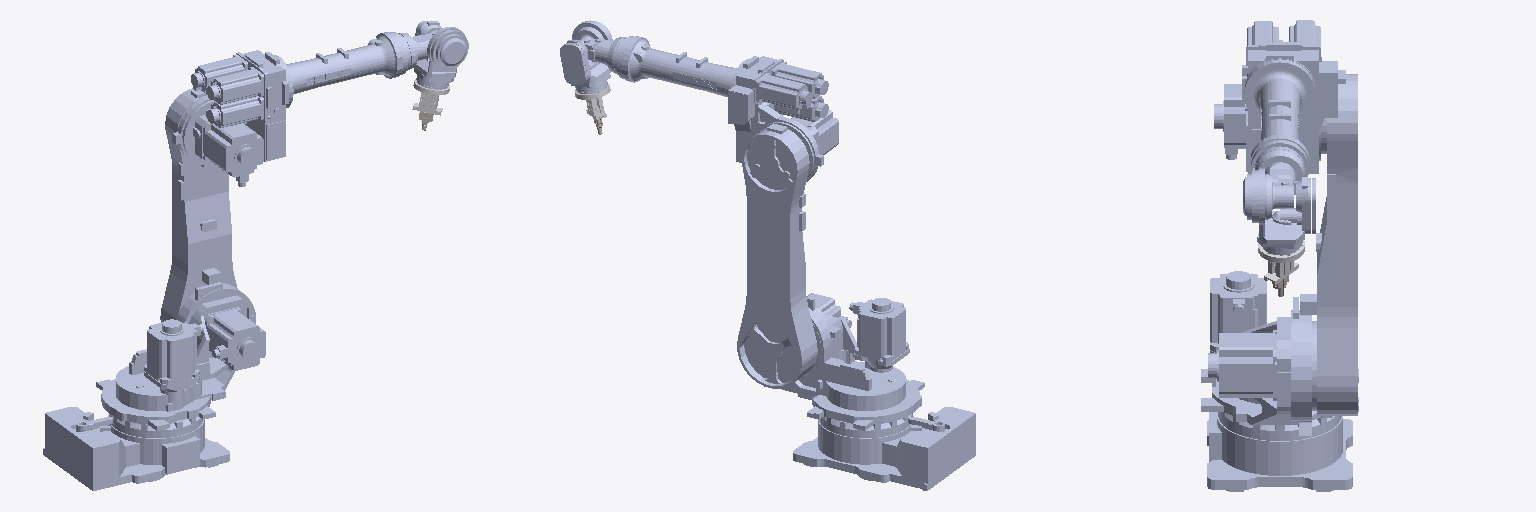
The robot description file, URDF, robot "hg_arm_hand_description":
<?xml version="1.0" encoding="utf-8"?>
<!-- This URDF was automatically created by SolidWorks to URDF Exporter! Originally created by [author] ([email redacted]) 
     Commit Version: 1.6.0-1-g15f4949  Build Version: 1.6.7594.29634
     For more information, please see http://wiki.ros.org/sw_urdf_exporter -->
<robot
  name="hg_arm_hand_description">
  <link
    name="base_link">
    <inertial>
      <origin
        xyz="-0.0980500358272937 -0.00232771681565317 0.111852076506816"
        rpy="0 0 0" />
      <mass
        value="46.5873146529749" />
      <inertia
        ixx="0.661474745111325"
        ixy="0.0153527675183583"
        ixz="0.089604953466729"
        iyy="1.33815915829418"
        iyz="0.000457536691791632"
        izz="1.80453325697265" />
    </inertial>
    <visual>
      <origin
        xyz="0 0 0"
        rpy="0 0 0" />
      <geometry>
        <mesh
          filename="package://hg_arm_hand_description/meshes/base_link.STL" />
      </geometry>
      <material
        name="">
        <color
          rgba="0.792156862745098 0.819607843137255 0.933333333333333 1" />
      </material>
    </visual>
    <collision>
      <origin
        xyz="0 0 0"
        rpy="0 0 0" />
      <geometry>
        <mesh
          filename="package://hg_arm_hand_description/meshes/base_link.STL" />
      </geometry>
    </collision>
  </link>
  <link
    name="Link1">
    <inertial>
      <origin
        xyz="0.124489041830363 -0.039358174366685 0.118219762696502"
        rpy="0 0 0" />
      <mass
        value="33.6330721032146" />
      <inertia
        ixx="0.468945917191168"
        ixy="-0.0589086007459388"
        ixz="-0.222059127182104"
        iyy="0.888555909380166"
        iyz="-0.0161423969222272"
        izz="0.843325415823868" />
    </inertial>
    <visual>
      <origin
        xyz="0 0 0"
        rpy="0 0 0" />
      <geometry>
        <mesh
          filename="package://hg_arm_hand_description/meshes/Link1.STL" />
      </geometry>
      <material
        name="">
        <color
          rgba="0.792156862745098 0.819607843137255 0.933333333333333 1" />
      </material>
    </visual>
    <collision>
      <origin
        xyz="0 0 0"
        rpy="0 0 0" />
      <geometry>
        <mesh
          filename="package://hg_arm_hand_description/meshes/Link1.STL" />
      </geometry>
    </collision>
  </link>
  <joint
    name="joint1"
    type="revolute">
    <origin
      xyz="0 0 0.28"
      rpy="0 0 0" />
    <parent
      link="base_link" />
    <child
      link="Link1" />
    <axis
      xyz="0 0 -1" />
    <limit
      lower="-3.14"
      upper="3.14"
      effort="1"
      velocity="1" />
  </joint>
  <link
    name="Link2">
    <inertial>
      <origin
        xyz="-0.00191502415367473 -0.0672730286474409 0.372447137291563"
        rpy="0 0 0" />
      <mass
        value="34.2613834304154" />
      <inertia
        ixx="1.73347595247948"
        ixy="-0.000101095446454487"
        ixz="0.00095886072769276"
        iyy="1.86610585301145"
        iyz="0.0321183884522106"
        izz="0.208398466721327" />
    </inertial>
    <visual>
      <origin
        xyz="0 0 0"
        rpy="0 0 0" />
      <geometry>
        <mesh
          filename="package://hg_arm_hand_description/meshes/Link2.STL" />
      </geometry>
      <material
        name="">
        <color
          rgba="0.792156862745098 0.819607843137255 0.933333333333333 1" />
      </material>
    </visual>
    <collision>
      <origin
        xyz="0 0 0"
        rpy="0 0 0" />
      <geometry>
        <mesh
          filename="package://hg_arm_hand_description/meshes/Link2.STL" />
      </geometry>
    </collision>
  </link>
  <joint
    name="joint2"
    type="revolute">
    <origin
      xyz="0.32 0.1 0.2"
      rpy="0 0 3.1416" />
    <parent
      link="Link1" />
    <child
      link="Link2" />
    <axis
      xyz="0 -1 0" />
    <limit
      lower="-3.14"
      upper="3.14"
      effort="1"
      velocity="1" />
  </joint>
  <link
    name="Link3">
    <inertial>
      <origin
        xyz="-0.183102672704757 0.0179818743476689 0.119362800384374"
        rpy="0 0 0" />
      <mass
        value="32.9263890108208" />
      <inertia
        ixx="0.308931114883643"
        ixy="0.0224354465402208"
        ixz="0.0556277116487763"
        iyy="0.601143194786335"
        iyz="-0.0026357431191842"
        izz="0.4899154837244" />
    </inertial>
    <visual>
      <origin
        xyz="0 0 0"
        rpy="0 0 0" />
      <geometry>
        <mesh
          filename="package://hg_arm_hand_description/meshes/Link3.STL" />
      </geometry>
      <material
        name="">
        <color
          rgba="0.792156862745098 0.819607843137255 0.933333333333333 1" />
      </material>
    </visual>
    <collision>
      <origin
        xyz="0 0 0"
        rpy="0 0 0" />
      <geometry>
        <mesh
          filename="package://hg_arm_hand_description/meshes/Link3.STL" />
      </geometry>
    </collision>
  </link>
  <joint
    name="joint3"
    type="revolute">
    <origin
      xyz="0 0.084 0.87"
      rpy="0 0 0" />
    <parent
      link="Link2" />
    <child
      link="Link3" />
    <axis
      xyz="0 1 0" />
    <limit
      lower="-3.14"
      upper="3.14"
      effort="1"
      velocity="1" />
  </joint>
  <link
    name="Link4">
    <inertial>
      <origin
        xyz="0.0251416371906674 -2.64594692822584E-08 -0.00119929727767354"
        rpy="0 0 0" />
      <mass
        value="3.31772253710851" />
      <inertia
        ixx="0.00871539895331899"
        ixy="4.72234769697784E-09"
        ixz="0.000405286761999623"
        iyy="0.0128061237486537"
        iyz="-3.39763923047263E-09"
        izz="0.0127319094954166" />
    </inertial>
    <visual>
      <origin
        xyz="0 0 0"
        rpy="0 0 0" />
      <geometry>
        <mesh
          filename="package://hg_arm_hand_description/meshes/Link4.STL" />
      </geometry>
      <material
        name="">
        <color
          rgba="0.792156862745098 0.819607843137255 0.933333333333333 1" />
      </material>
    </visual>
    <collision>
      <origin
        xyz="0 0 0"
        rpy="0 0 0" />
      <geometry>
        <mesh
          filename="package://hg_arm_hand_description/meshes/Link4.STL" />
      </geometry>
    </collision>
  </link>
  <joint
    name="joint4"
    type="revolute">
    <origin
      xyz="-0.86 0.016 0.2"
      rpy="-1.5708 0 3.1416" />
    <parent
      link="Link3" />
    <child
      link="Link4" />
    <axis
      xyz="1 0 0" />
    <limit
      lower="-3.14"
      upper="3.14"
      effort="1"
      velocity="1" />
  </joint>
  <link
    name="Link5">
    <inertial>
      <origin
        xyz="0.0761284567626129 -0.0236687427949569 0.0192511620493185"
        rpy="0 0 0" />
      <mass
        value="3.21802266833736" />
      <inertia
        ixx="0.0115685195832536"
        ixy="-0.000566862871540123"
        ixz="0.000478618021045719"
        iyy="0.010525417907517"
        iyz="0.00142169346768481"
        izz="0.0110683735994668" />
    </inertial>
    <visual>
      <origin
        xyz="0 0 0"
        rpy="0 0 0" />
      <geometry>
        <mesh
          filename="package://hg_arm_hand_description/meshes/Link5.STL" />
      </geometry>
      <material
        name="">
        <color
          rgba="0.792156862745098 0.819607843137255 0.933333333333333 1" />
      </material>
    </visual>
    <collision>
      <origin
        xyz="0 0 0"
        rpy="0 0 0" />
      <geometry>
        <mesh
          filename="package://hg_arm_hand_description/meshes/Link5.STL" />
      </geometry>
    </collision>
  </link>
  <joint
    name="joint5"
    type="revolute">
    <origin
      xyz="0.17 0 -0.087"
      rpy="-2.26689 -1.5708 0" />
    <parent
      link="Link4" />
    <child
      link="Link5" />
    <axis
      xyz="1 0 0" />
    <limit
      lower="-3.14"
      upper="3.14"
      effort="1"
      velocity="1" />
  </joint>
  <link
    name="Link6">
    <inertial>
      <origin
        xyz="-5.55111512312578E-15 -3.10862446895044E-15 -0.057074120012946"
        rpy="0 0 0" />
      <mass
        value="1.03809496696182" />
      <inertia
        ixx="0.00165602822384768"
        ixy="1.62630325872826E-19"
        ixz="2.71050543121376E-20"
        iyy="0.00165602822384769"
        iyz="4.33680868994202E-19"
        izz="0.00254659409207581" />
    </inertial>
    <visual>
      <origin
        xyz="0 0 0"
        rpy="0 0 0" />
      <geometry>
        <mesh
          filename="package://hg_arm_hand_description/meshes/Link6.STL" />
      </geometry>
      <material
        name="">
        <color
          rgba="0.792156862745098 0.819607843137255 0.933333333333333 1" />
      </material>
    </visual>
    <collision>
      <origin
        xyz="0 0 0"
        rpy="0 0 0" />
      <geometry>
        <mesh
          filename="package://hg_arm_hand_description/meshes/Link6.STL" />
      </geometry>
    </collision>
  </link>
  <joint
    name="joint6"
    type="revolute">
    <origin
      xyz="0.091 -0.15998 0.12818"
      rpy="-0.83315 -0.37721 2.8186" />
    <parent
      link="Link5" />
    <child
      link="Link6" />
    <axis
      xyz="0 0 1" />
    <limit
      lower="-3.14"
      upper="3.14"
      effort="1"
      velocity="1" />
  </joint>
  <link
    name="gripper">
    <inertial>
      <origin
        xyz="0.00299999999997813 0.00015000000001808 -0.193224198175116"
        rpy="0 0 0" />
      <mass
        value="0.843628368630204" />
      <inertia
        ixx="0.00120327643820655"
        ixy="4.86329604486175E-06"
        ixz="-3.25260651745651E-19"
        iyy="0.00119756103253225"
        iyz="2.43945488809238E-19"
        izz="0.00234473867823283" />
    </inertial>
    <visual>
      <origin
        xyz="0 0 0"
        rpy="0 0 0" />
      <geometry>
        <mesh
          filename="package://hg_arm_hand_description/meshes/gripper.STL" />
      </geometry>
      <material
        name="">
        <color
          rgba="0.866666666666667 0.866666666666667 0.890196078431372 1" />
      </material>
    </visual>
    <collision>
      <origin
        xyz="0 0 0"
        rpy="0 0 0" />
      <geometry>
        <mesh
          filename="package://hg_arm_hand_description/meshes/gripper.STL" />
      </geometry>
    </collision>
  </link>
  <joint
    name="gripper"
    type="fixed">
    <origin
      xyz="-0.0028192 0.0010368 0.183"
      rpy="0 0 -0.40236" />
    <parent
      link="Link6" />
    <child
      link="gripper" />
    <axis
      xyz="0 0 0" />
  </joint>
  <link
    name="finger1">
    <inertial>
      <origin
        xyz="0.0147482184599466 5.6399329650958E-13 0.00339964519313074"
        rpy="0 0 0" />
      <mass
        value="0.0939852211385388" />
      <inertia
        ixx="4.71759270450362E-05"
        ixy="3.11479425693824E-16"
        ixz="-3.13603141563657E-06"
        iyy="4.59210349411821E-05"
        iyz="-2.6707435606175E-15"
        izz="4.2852974642729E-06" />
    </inertial>
    <visual>
      <origin
        xyz="0 0 0"
        rpy="0 0 0" />
      <geometry>
        <mesh
          filename="package://hg_arm_hand_description/meshes/finger1.STL" />
      </geometry>
      <material
        name="">
        <color
          rgba="0.776470588235294 0.756862745098039 0.737254901960784 1" />
      </material>
    </visual>
    <collision>
      <origin
        xyz="0 0 0"
        rpy="0 0 0" />
      <geometry>
        <mesh
          filename="package://hg_arm_hand_description/meshes/finger1.STL" />
      </geometry>
    </collision>
  </link>
  <joint
    name="finger1"
    type="prismatic">
    <origin
      xyz="0.0248 0 -0.044"
      rpy="0 0 -3.1416" />
    <parent
      link="gripper" />
    <child
      link="finger1" />
    <axis
      xyz="-1 0 0" />
    <limit
      lower="0"
      upper="0.04"
      effort="20"
      velocity="1" />
  </joint>
  <link
    name="finger2">
    <inertial>
      <origin
        xyz="-0.0147482184610841 -1.04005692946885E-12 0.00339964518730929"
        rpy="0 0 0" />
      <mass
        value="0.0939852211215284" />
      <inertia
        ixx="4.71759270264421E-05"
        ixy="5.53497067515112E-16"
        ixz="3.13603141845719E-06"
        iyy="4.59210349238607E-05"
        iyz="4.76661544199372E-15"
        izz="4.28529746603542E-06" />
    </inertial>
    <visual>
      <origin
        xyz="0 0 0"
        rpy="0 0 0" />
      <geometry>
        <mesh
          filename="package://hg_arm_hand_description/meshes/finger2.STL" />
      </geometry>
      <material
        name="">
        <color
          rgba="0.776470588235294 0.756862745098039 0.737254901960784 1" />
      </material>
    </visual>
    <collision>
      <origin
        xyz="0 0 0"
        rpy="0 0 0" />
      <geometry>
        <mesh
          filename="package://hg_arm_hand_description/meshes/finger2.STL" />
      </geometry>
    </collision>
  </link>
  <joint
    name="finger2"
    type="prismatic">
    <origin
      xyz="-0.019 0 -0.044"
      rpy="0 0 3.1416" />
    <parent
      link="gripper" />
    <child
      link="finger2" />
    <axis
      xyz="1 0 0" />
    <limit
      lower="0"
      upper="0.04"
      effort="20"
      velocity="1" />
  </joint>
</robot>

--- What the picture shows (computed from the rendered views, not written in the file) ---
The picture shows the robot from 3 angles, left to right: view 1: azimuth 30°, elevation 25°; view 2: azimuth 150°, elevation 25°; view 3: azimuth 270°, elevation 25°; orthographic projection.
Robot: hg_arm_hand_description — 10 links, 9 joints (6 revolute, 2 prismatic, 1 fixed); root link base_link; default pose: every joint at zero.
Visible links, largest first — view 1: Link3, Link1, base_link, Link2, Link5, Link4, gripper; view 2: Link2, Link1, Link3, base_link, Link5, Link4, gripper; view 3: Link1, Link2, Link3, base_link, Link5, Link4, gripper.
Link boxes in pixels (bbox=[...]): Link3: bbox=[172, 32, 402, 186]; Link1: bbox=[96, 282, 265, 430]; base_link: bbox=[43, 407, 229, 490]; Link2: bbox=[160, 88, 237, 322]; Link5: bbox=[414, 21, 468, 77]; Link4: bbox=[390, 30, 437, 74]; gripper: bbox=[412, 79, 449, 115]; Link2: bbox=[737, 122, 821, 388]; Link1: bbox=[782, 293, 924, 430]; Link3: bbox=[621, 36, 838, 181]; base_link: bbox=[793, 407, 975, 490]; Link5: bbox=[560, 20, 612, 84]; Link4: bbox=[575, 27, 633, 78]; gripper: bbox=[574, 84, 610, 119]; Link1: bbox=[1201, 271, 1358, 435]; Link2: bbox=[1300, 70, 1357, 417]; Link3: bbox=[1214, 20, 1337, 174]; base_link: bbox=[1207, 412, 1352, 491]; Link5: bbox=[1243, 168, 1315, 243]; Link4: bbox=[1251, 140, 1308, 219]; gripper: bbox=[1258, 240, 1304, 284].
Bounding box of the posed robot: 1.85 × 0.5 × 1.68 m (x, y, z).
Meshes: 10 distinct files referenced, 10 mesh visuals loaded (10 binary STL).